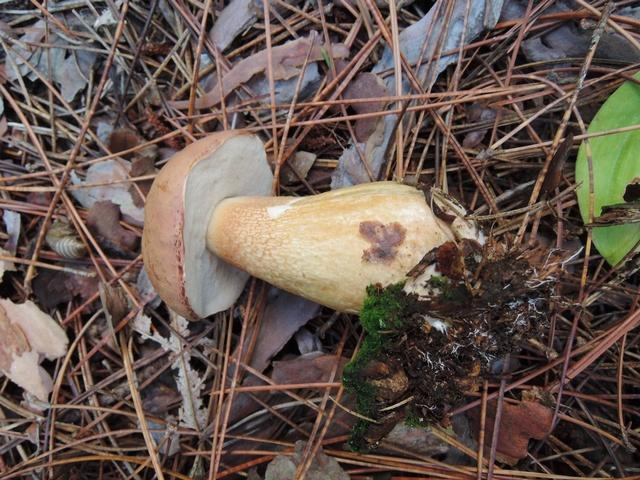Non-edible Mushroom: (140, 127, 481, 322)
